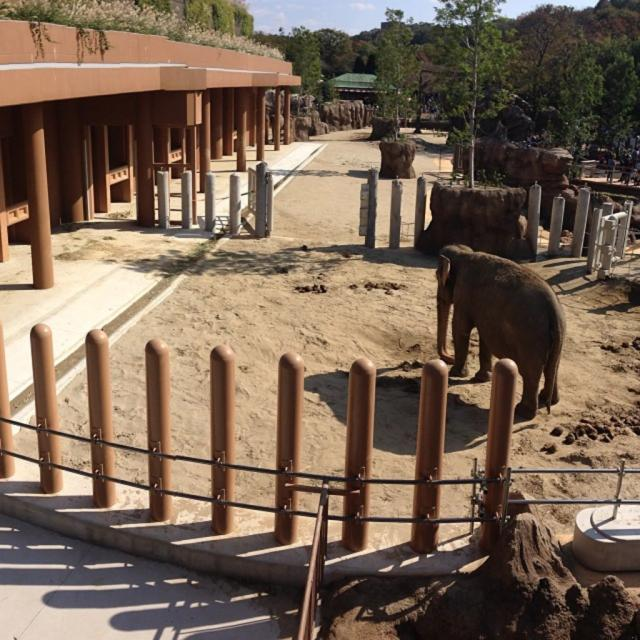Elephant: (434, 242, 566, 420)
